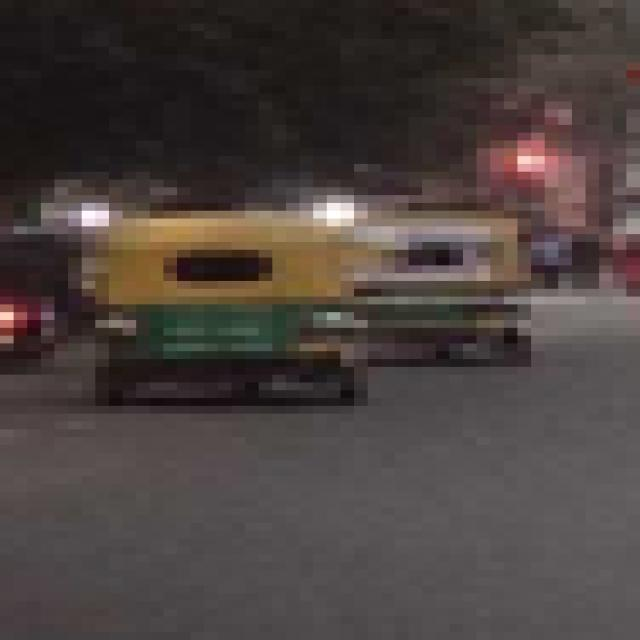autorickshaw: (95, 203, 368, 421)
